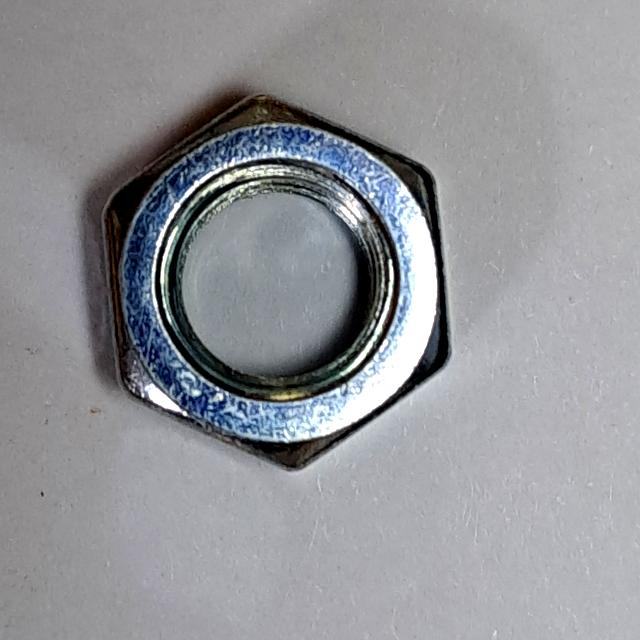Excellent: (91, 73, 466, 482)
